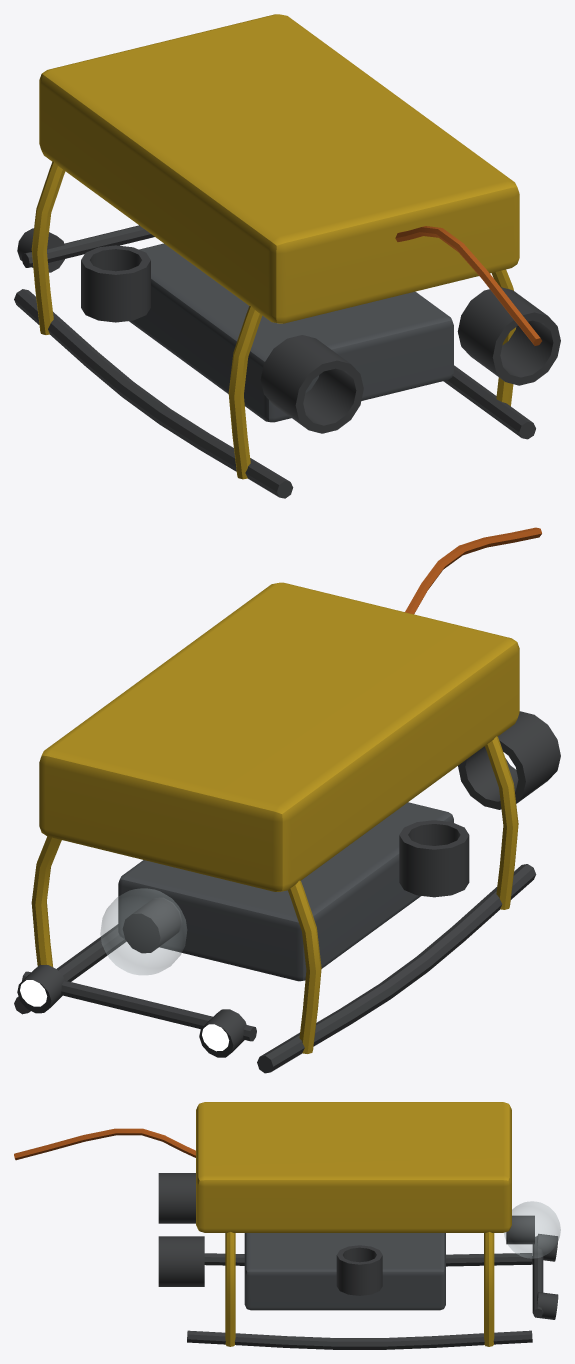
Rendered from mars_rov.glb.
The picture shows the model from 3 angles, top to bottom: view 1: azimuth 30°, elevation 25°; view 2: azimuth 150°, elevation 25°; view 3: azimuth 270°, elevation 25°; orthographic projection. The views are drawn at different scales.
Parts seen in each view (by area): view 1: rov_frame; view 2: rov_frame; view 3: rov_frame.
Part boxes in pixels (box(x1,y1,x2,y2)): rov_frame: box(14, 14, 560, 498); rov_frame: box(14, 527, 560, 1073); rov_frame: box(14, 1102, 560, 1349).
Bounding box in the file's own units: 2.38 × 1.64 × 4.53.
